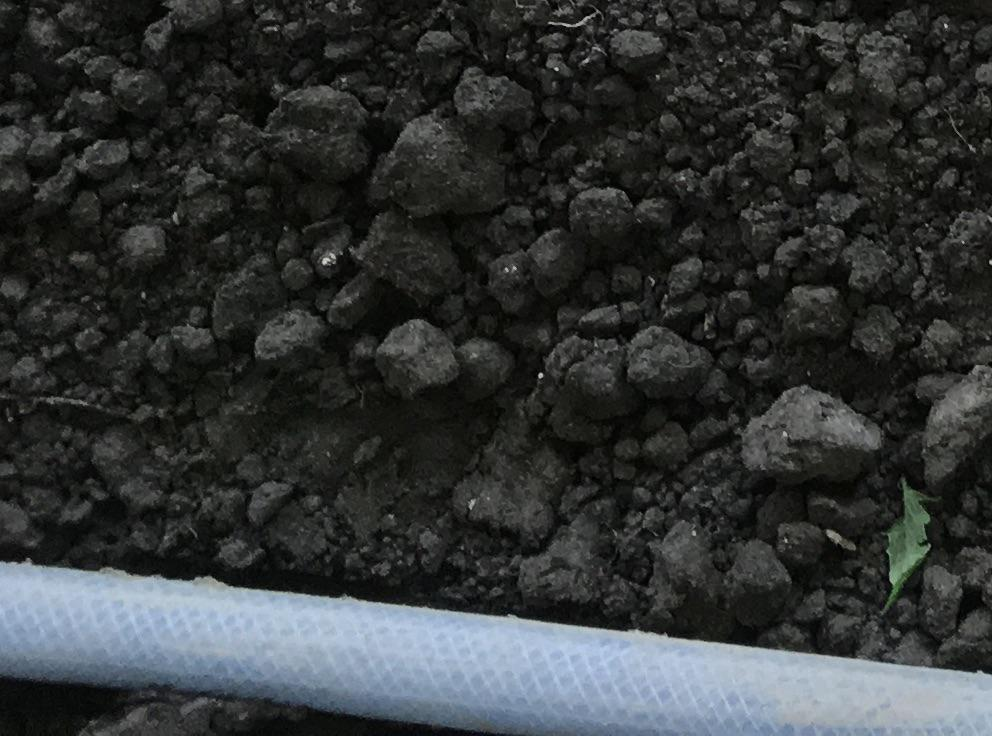block: (740, 383, 881, 483), (377, 114, 509, 217), (255, 87, 363, 176), (921, 362, 992, 489), (373, 316, 459, 400), (628, 324, 713, 402)
